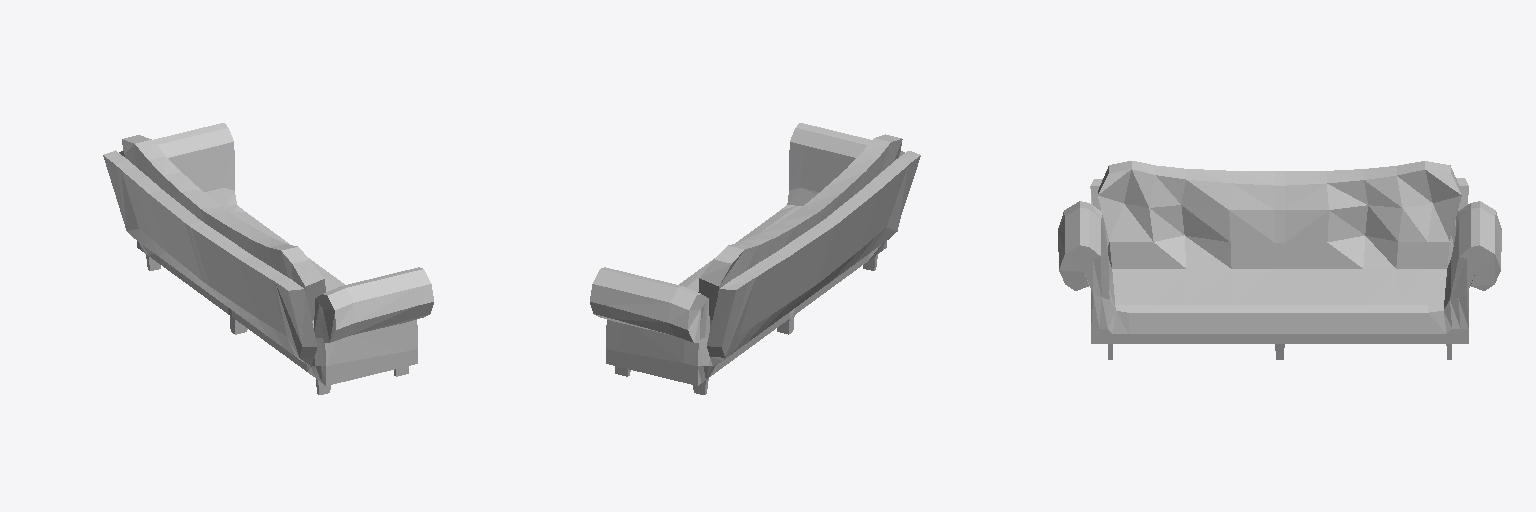
Rendered from sofa.obj.
3 renders of one model, left to right at view 1: azimuth 30°, elevation 25°; view 2: azimuth 150°, elevation 25°; view 3: azimuth 270°, elevation 25°, orthographic.
Parts seen in each view (by area): view 1: pCube1; view 2: pCube1; view 3: pCube1.
Boxes of the visible parts, box(x1,y1,x2,y2) form: pCube1: box(103, 123, 433, 394); pCube1: box(590, 123, 920, 394); pCube1: box(1058, 161, 1501, 359).
Bounding box in the file's own units: 2.24 × 2.26 × 6.35.